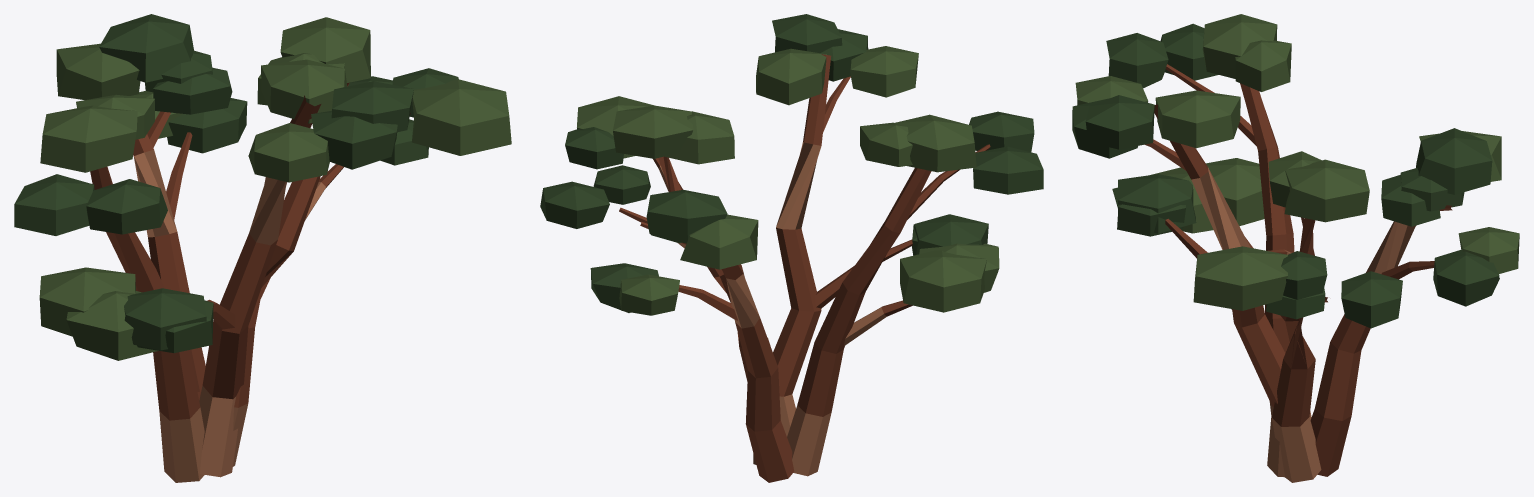
The model's file is pch_quenua_a.glb.
3 views of the same model, side by side, from view 1: azimuth 30°, elevation 25°; view 2: azimuth 150°, elevation 25°; view 3: azimuth 270°, elevation 25° (orthographic). The views are drawn at different scales.
Parts seen in each view (by area): view 1: pch_quenua_a; view 2: pch_quenua_a; view 3: pch_quenua_a.
Part boxes in pixels (x1,y1,x2,y2): pch_quenua_a: (14,14,511,482); pch_quenua_a: (540,14,1043,482); pch_quenua_a: (1072,14,1519,482).
Size of the model in its own units: 4.46 by 3.6 by 3.65.
